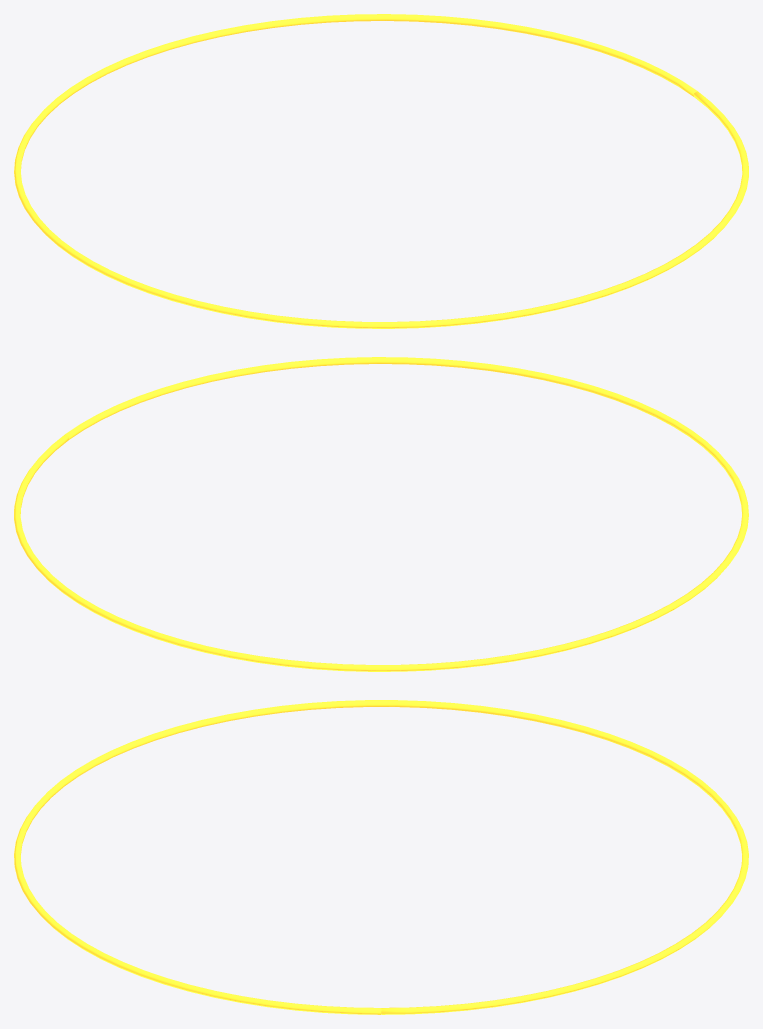
Rendered from SM_CoreOrbit_1.fbx.
3 renders of one model, top to bottom at view 1: azimuth 30°, elevation 25°; view 2: azimuth 150°, elevation 25°; view 3: azimuth 270°, elevation 25°, orthographic.
Parts seen in each view (by area): view 1: SM_CoreOrbit_1.001; view 2: SM_CoreOrbit_1.001; view 3: SM_CoreOrbit_1.001.
Boxes of the visible parts, <box> form: SM_CoreOrbit_1.001: <box>14,14,748,328</box>; SM_CoreOrbit_1.001: <box>14,357,748,671</box>; SM_CoreOrbit_1.001: <box>14,700,748,1014</box>.
Bounding box in the file's own units: 495 × 495 × 4.76.
